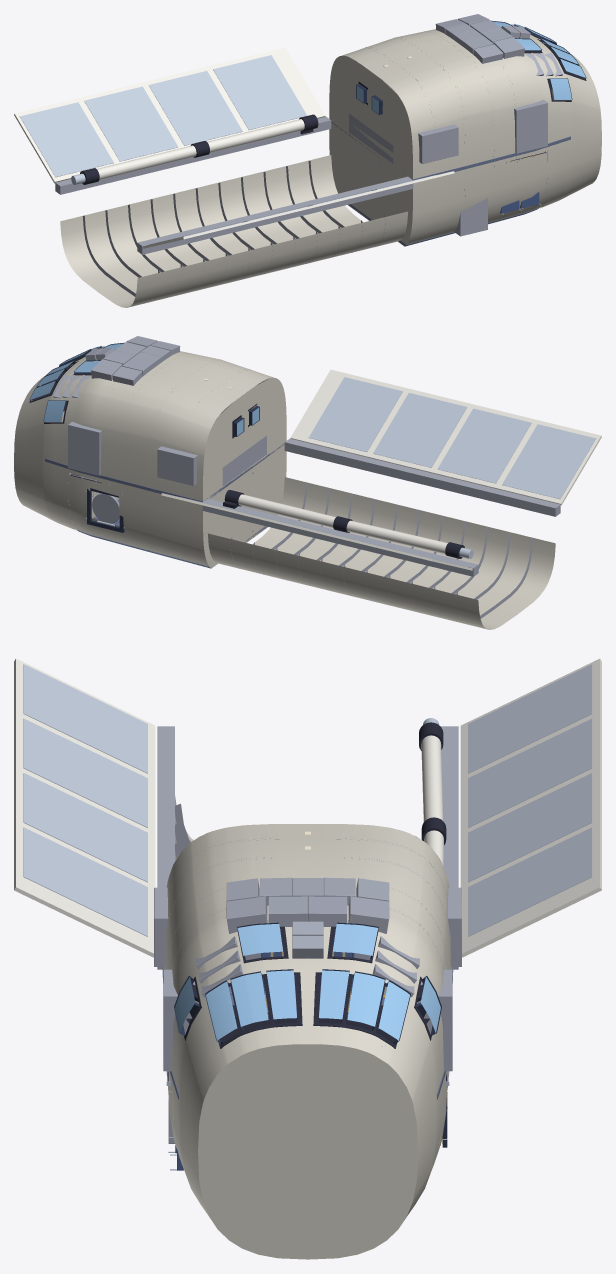
Rendered from NI_Interior.fbx.
3 views of the same model, one above another, from view 1: azimuth 30°, elevation 25°; view 2: azimuth 150°, elevation 25°; view 3: azimuth 270°, elevation 25° (orthographic). The views are drawn at different scales.
Visible parts, largest first — view 1: NI_Baia, NI_Casco, NI_Estrutura, NI_Vidros, NI_Janelas, NI_Piso; view 2: NI_Baia, NI_Casco, NI_Estrutura, NI_Vidros, NI_Piso, NI_Janelas, ANIM_EscotilhaLateral, NI_Escotilha; view 3: NI_Casco, NI_Baia, NI_Estrutura, NI_Vidros, NI_Janelas, NI_Glareshield.
Part boxes in pixels (x1,y1,x2,y2): NI_Baia: (14,47,454,307); NI_Casco: (329,29,601,246); NI_Estrutura: (349,14,562,236); NI_Vidros: (356,21,585,113); NI_Janelas: (356,20,586,114); NI_Piso: (331,122,570,246); NI_Baia: (161,369,601,629); NI_Casco: (14,351,286,568); NI_Estrutura: (53,336,266,486); NI_Vidros: (30,343,259,435); NI_Piso: (45,443,284,568); NI_Janelas: (29,342,259,438); ANIM_EscotilhaLateral: (92,493,119,526); NI_Escotilha: (87,488,124,532); NI_Casco: (163,824,452,1259); NI_Baia: (14,658,601,969); NI_Estrutura: (154,877,461,1143); NI_Vidros: (175,923,440,1040); NI_Janelas: (174,922,441,1048); NI_Glareshield: (186,984,429,1042).
Bounding box in the file's own units: 16.1 × 5.45 × 10.05.
